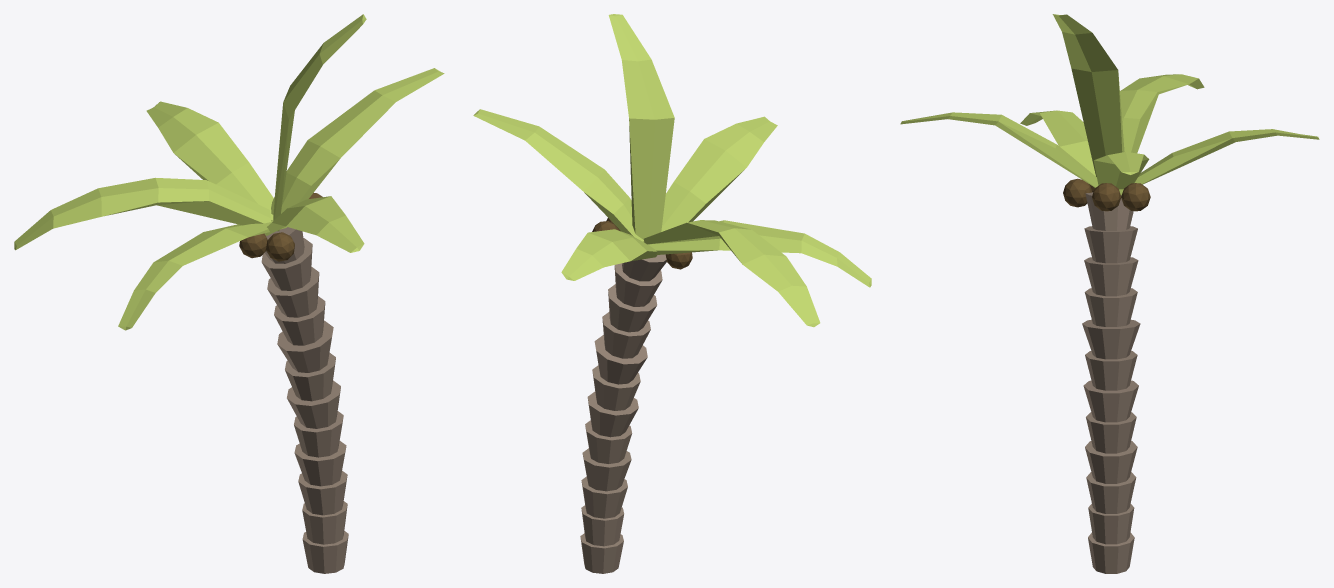
The model's file is Palmtree_2.fbx.
3 views of the same model, side by side, from view 1: azimuth 30°, elevation 25°; view 2: azimuth 150°, elevation 25°; view 3: azimuth 270°, elevation 25° (orthographic). The views are drawn at different scales.
Visible parts, largest first — view 1: Palmtree2_mesh; view 2: Palmtree2_mesh; view 3: Palmtree2_mesh.
Part boxes in pixels (<box>): Palmtree2_mesh: <box>14,14,444,573</box>; Palmtree2_mesh: <box>473,14,871,573</box>; Palmtree2_mesh: <box>900,14,1319,573</box>.
Bounding box in the file's own units: 547 × 745 × 506.
